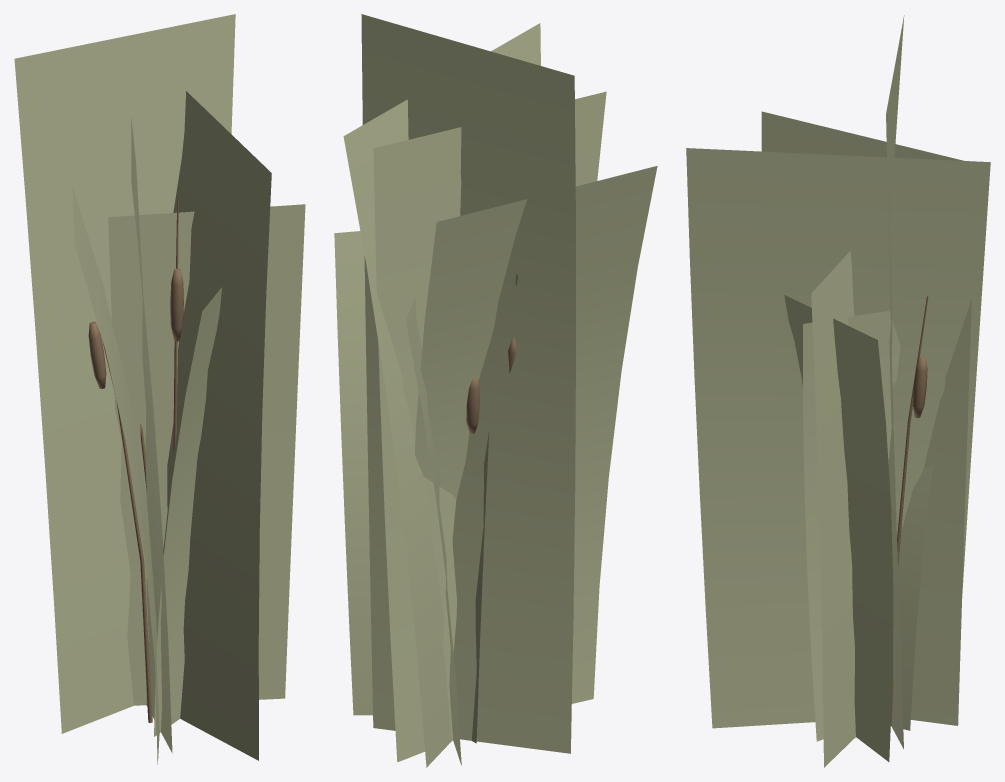
File: reed_tall0.glb
3 views of the same model, side by side, from view 1: azimuth 30°, elevation 25°; view 2: azimuth 150°, elevation 25°; view 3: azimuth 270°, elevation 25° (orthographic). The views are drawn at different scales.
Visible parts, largest first — view 1: reed_tall0; view 2: reed_tall0; view 3: reed_tall0.
Boxes of the visible parts, x1,y1,x2,y2 form: reed_tall0: (14, 14, 305, 764); reed_tall0: (334, 14, 657, 767); reed_tall0: (686, 15, 990, 767).
Size of the model in its own units: 1.11 by 2.81 by 1.2.
